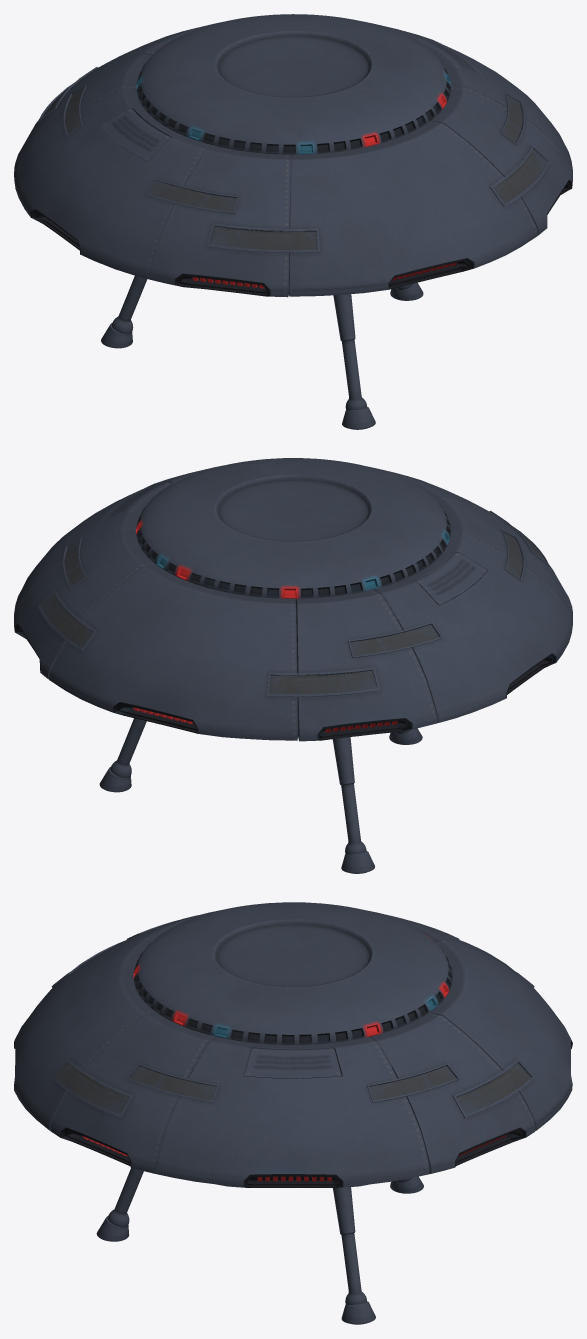
The model's file is ufo.obj.
3 renders of one model, top to bottom at view 1: azimuth 30°, elevation 25°; view 2: azimuth 150°, elevation 25°; view 3: azimuth 270°, elevation 25°, orthographic.
Visible parts, largest first — view 1: ufo_landed.1_Mesh_0; view 2: ufo_landed.1_Mesh_0; view 3: ufo_landed.1_Mesh_0.
Boxes of the visible parts, bbox=[...] form: ufo_landed.1_Mesh_0: bbox=[14, 14, 572, 429]; ufo_landed.1_Mesh_0: bbox=[14, 458, 572, 873]; ufo_landed.1_Mesh_0: bbox=[14, 902, 572, 1324].
Bounding box in the file's own units: 12.09 × 7.03 × 12.11.
Materials: 1 (1 with a texture image).
